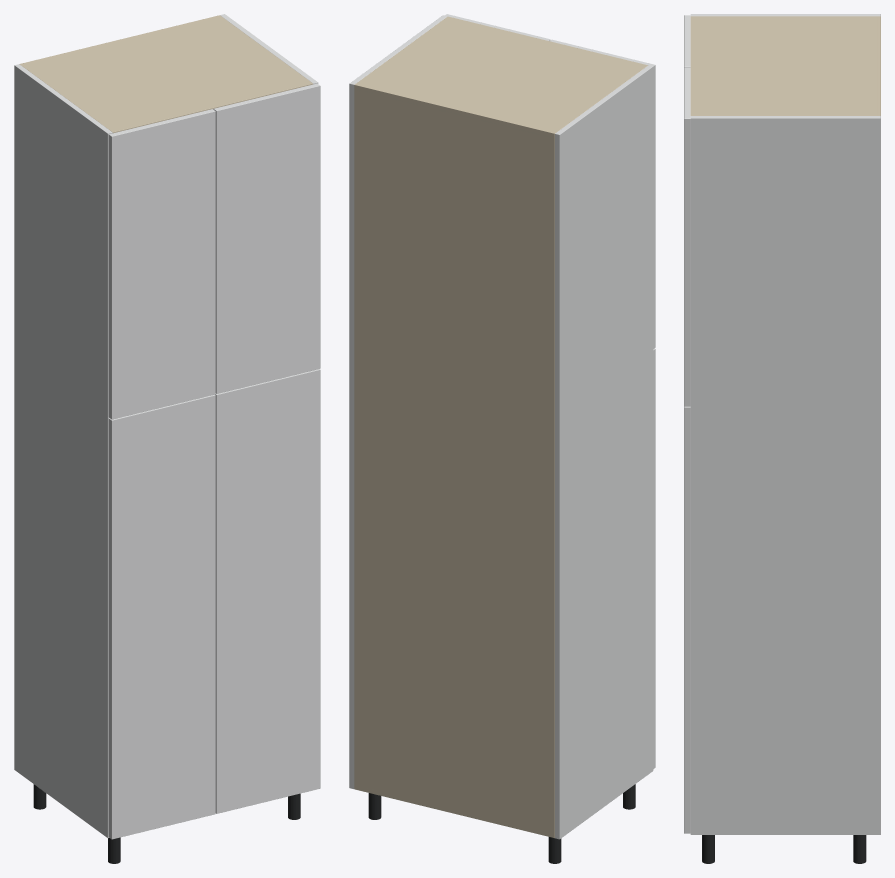
File: oppein-ply-pgw-pc3096.glb
3 renders of one model, left to right at view 1: azimuth 30°, elevation 25°; view 2: azimuth 150°, elevation 25°; view 3: azimuth 270°, elevation 25°, orthographic.
Parts seen in each view (by area): view 1: Cabinet side, Door, Door.001, Door.002, Door.003, Cabinet top; view 2: Cabinet back, Cabinet side, Cabinet top, Cabinet side.001, Door, Door.002; view 3: Cabinet side.001, Cabinet top, Door.001, Door.003, Cabinet side, Cabinet back, Adjustable foot.002.
Part boxes in pixels (bbox=[...]): Cabinet side: bbox=[14, 64, 112, 837]; Door: bbox=[108, 394, 215, 839]; Door.001: bbox=[215, 369, 320, 813]; Door.002: bbox=[108, 109, 215, 419]; Door.003: bbox=[213, 83, 320, 393]; Cabinet top: bbox=[21, 16, 313, 133]; Cabinet back: bbox=[354, 83, 556, 838]; Cabinet side: bbox=[555, 65, 653, 839]; Cabinet top: bbox=[356, 16, 647, 138]; Cabinet side.001: bbox=[349, 15, 447, 788]; Door: bbox=[653, 348, 655, 768]; Door.002: bbox=[549, 39, 655, 348]; Cabinet side.001: bbox=[690, 116, 880, 834]; Cabinet top: bbox=[690, 16, 876, 115]; Door.001: bbox=[684, 406, 690, 833]; Door.003: bbox=[684, 67, 690, 406]; Cabinet side: bbox=[690, 14, 880, 16]; Cabinet back: bbox=[877, 16, 880, 115]; Adjustable foot.002: bbox=[853, 835, 866, 863].
Bounding box in the file's own units: 0.762 × 2.55 × 0.6064.
